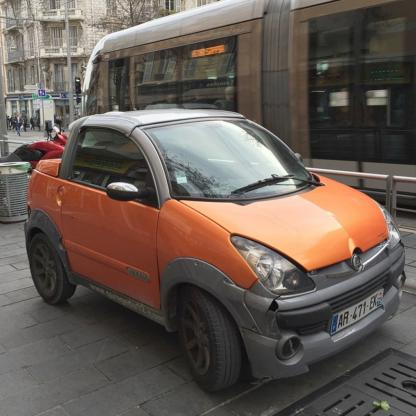Car: (24, 108, 406, 390)
